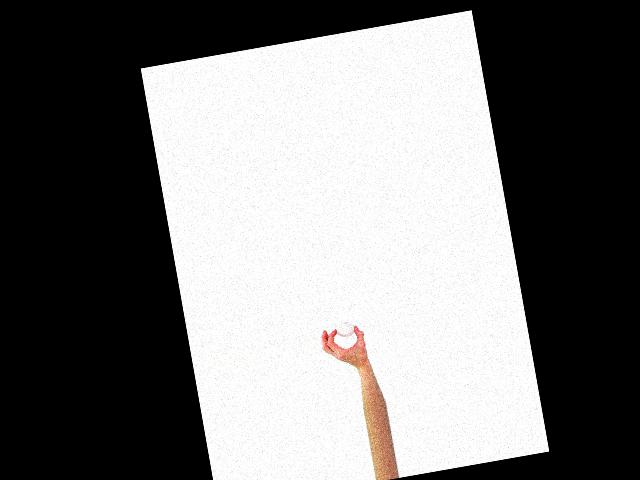egg: (335, 320, 356, 338)
